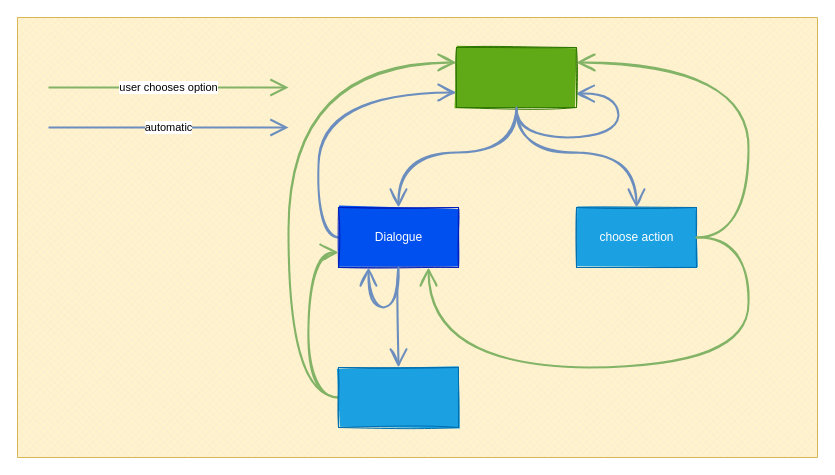
Image size: 835x475. Some labels were removed from this diagram. Each missing label, with the box of its shape:
choose answer: (338, 366, 458, 428)
Narration: (456, 46, 576, 108)
